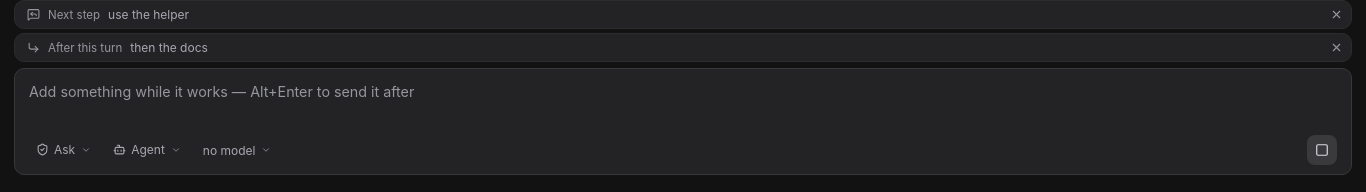
the queue › a row says when it is read, and opens whole on a click
The width and height of the screenshot is (1366, 192).
Click the button "use the helper": (149, 14) 108,7 -> 1320,22
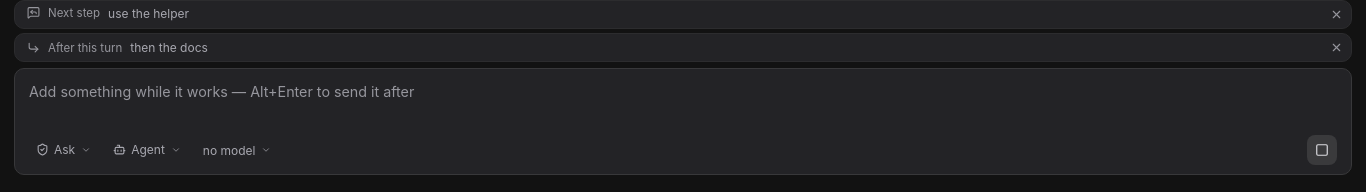
Check: the button "use the helper" is expanded, box 108,6 -> 1320,21
Click the button "then the docs": (169, 48) 130,40 -> 1320,55
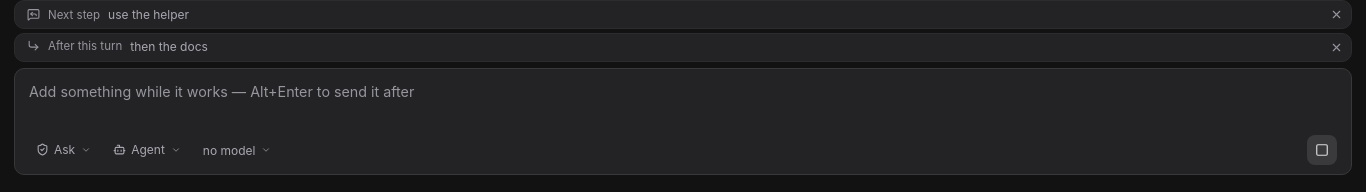
Click the button "then the docs": (169, 46) 130,39 -> 1320,54
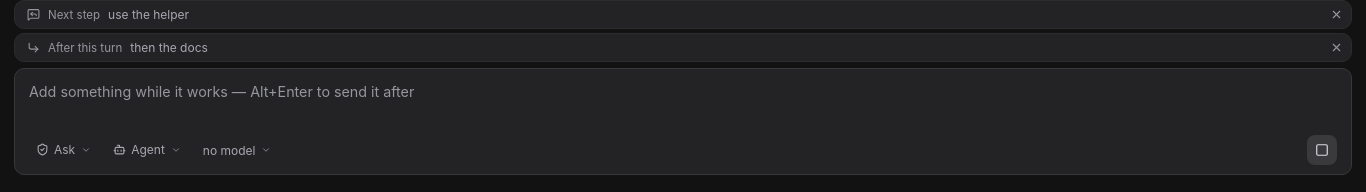
Check: the button "then the docs" is collapsed, box 130,40 -> 1320,55
